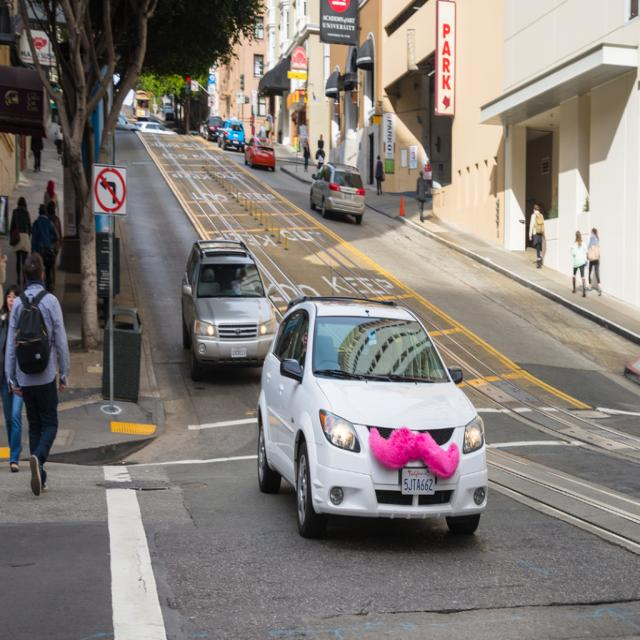car: (254, 291, 490, 543), (176, 234, 283, 384), (307, 154, 364, 218), (243, 135, 274, 170), (217, 122, 246, 145), (206, 111, 224, 147)
